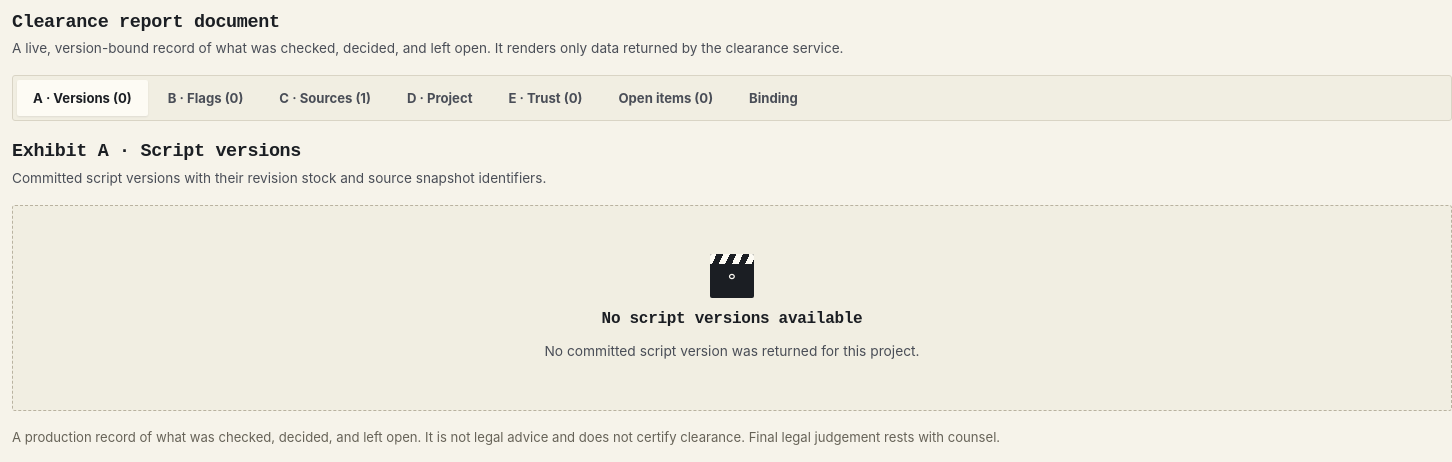
Scenario: ReportDocument renders only real data › renders Exhibit C source rows with authority, publisher link, excerpt, and stance
The image size is (1452, 462).
Click the button "C · Sources (1)". click: click(325, 98)
box: [263, 80, 387, 116]
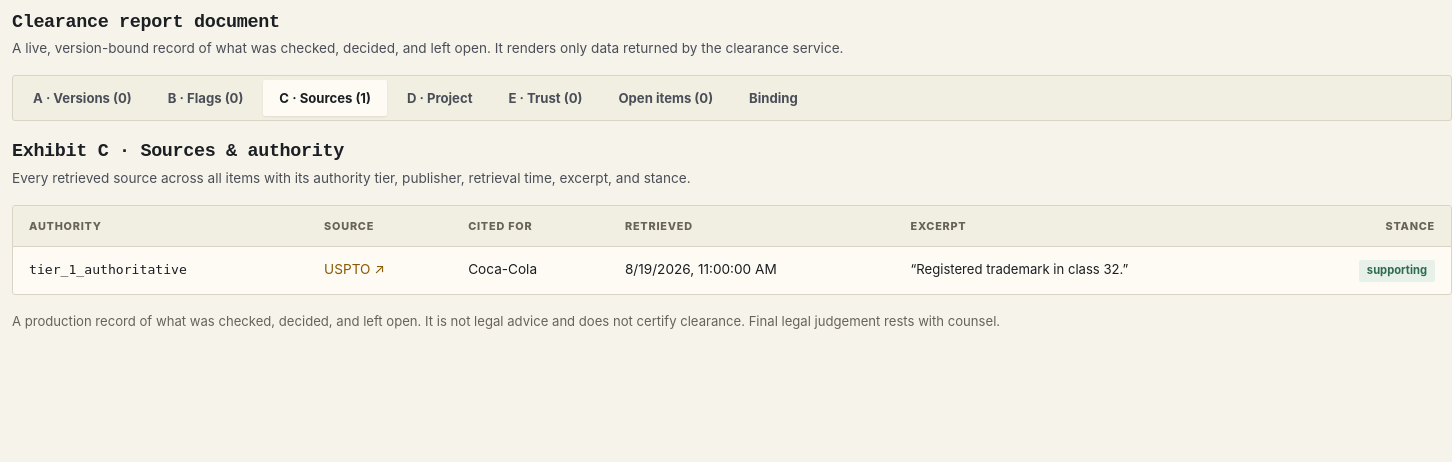
Expected: the text "tier_1_authoritative" is shown, [29, 262, 187, 278]
Expected: the text "“Registered trademark in class 32.”" is shown, [910, 262, 1128, 278]
Expected: the text "supporting" is shown, [1359, 260, 1435, 282]
